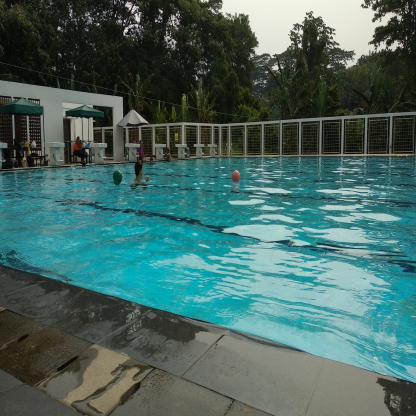green_buoy: (111, 169, 124, 187)
red_buoy: (231, 169, 243, 183)
